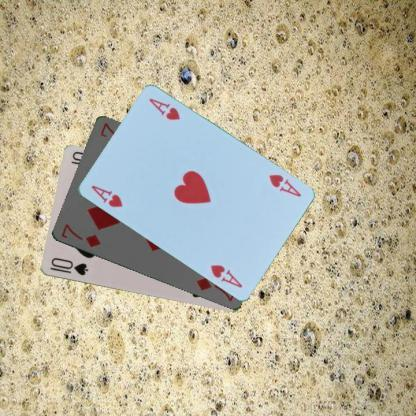10s: (46, 255, 90, 277)
7d: (58, 221, 102, 249)
Ah: (88, 182, 124, 210), (266, 172, 302, 198)
